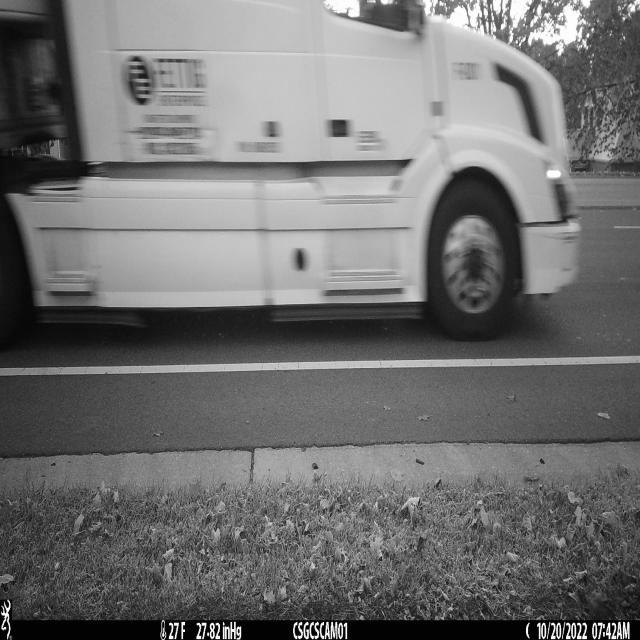Box Truck: (0, 0, 581, 343)
